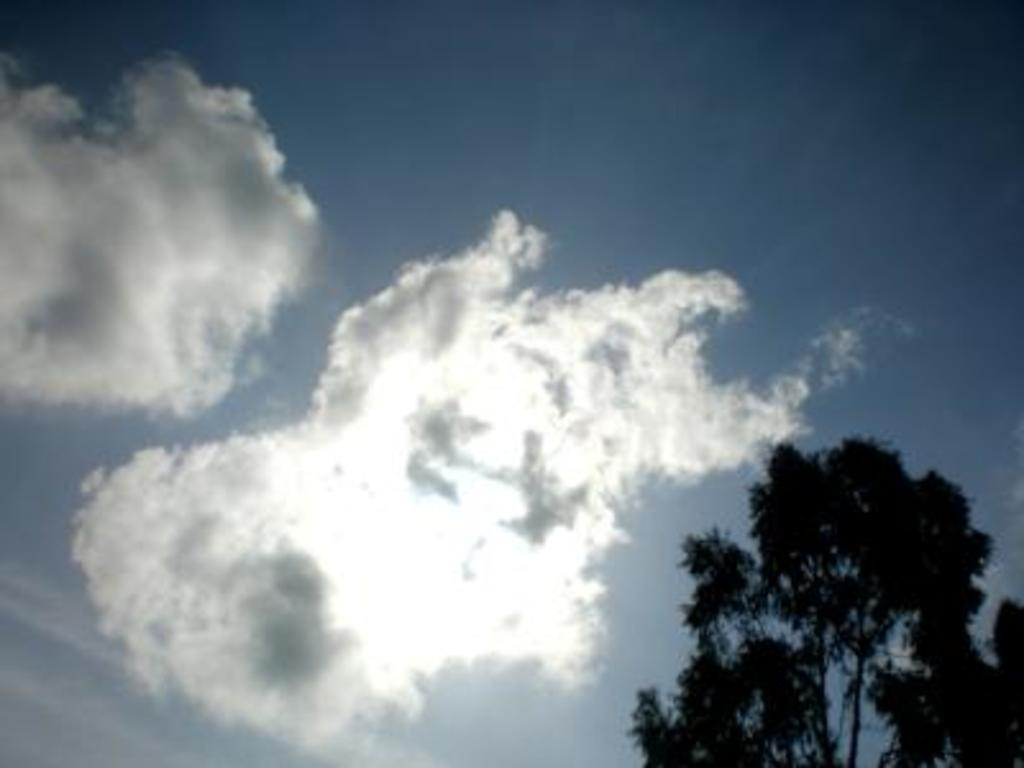Tree: (629, 432, 1024, 768)
